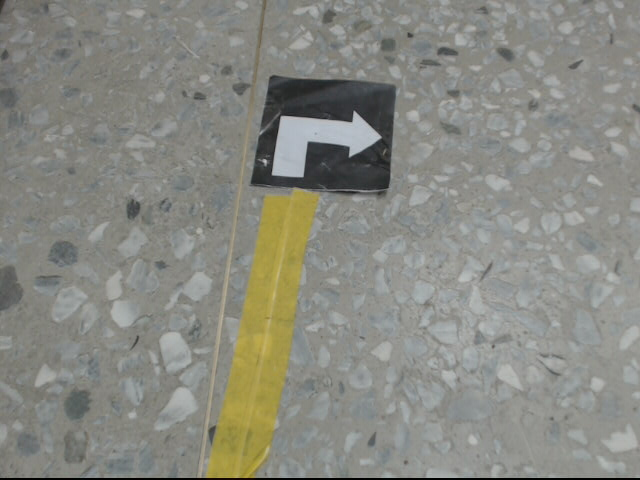right: (251, 74, 397, 192)
